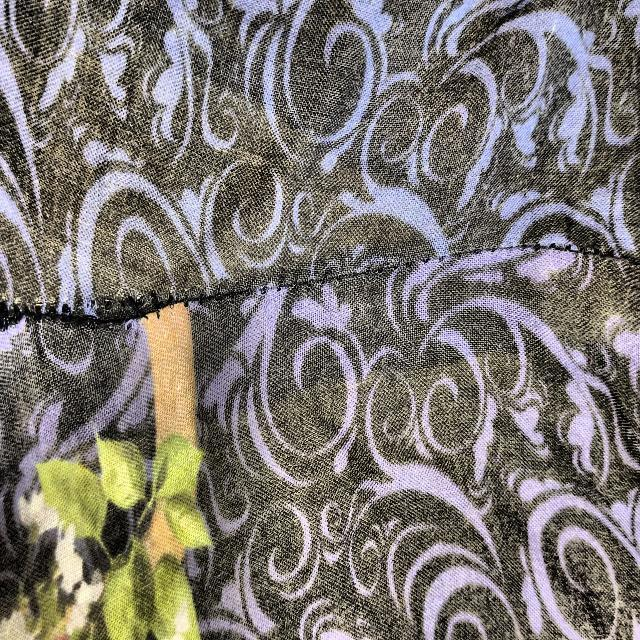gray stitch: (6, 265, 252, 351)
